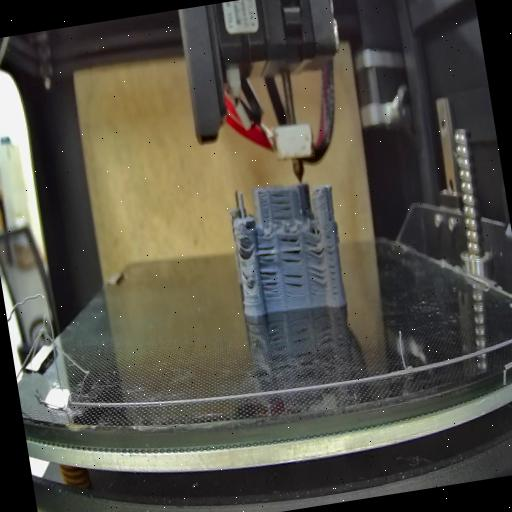cracks: (323, 234, 343, 296), (274, 230, 304, 268), (266, 189, 292, 223), (258, 266, 282, 300), (281, 268, 307, 297), (256, 240, 276, 268), (304, 236, 324, 262), (308, 262, 328, 286), (236, 240, 252, 260), (238, 266, 252, 286), (326, 206, 334, 222)
